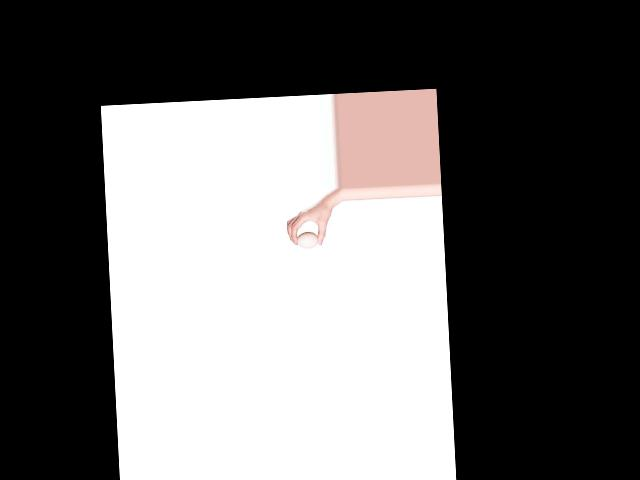egg: (296, 231, 319, 248)
